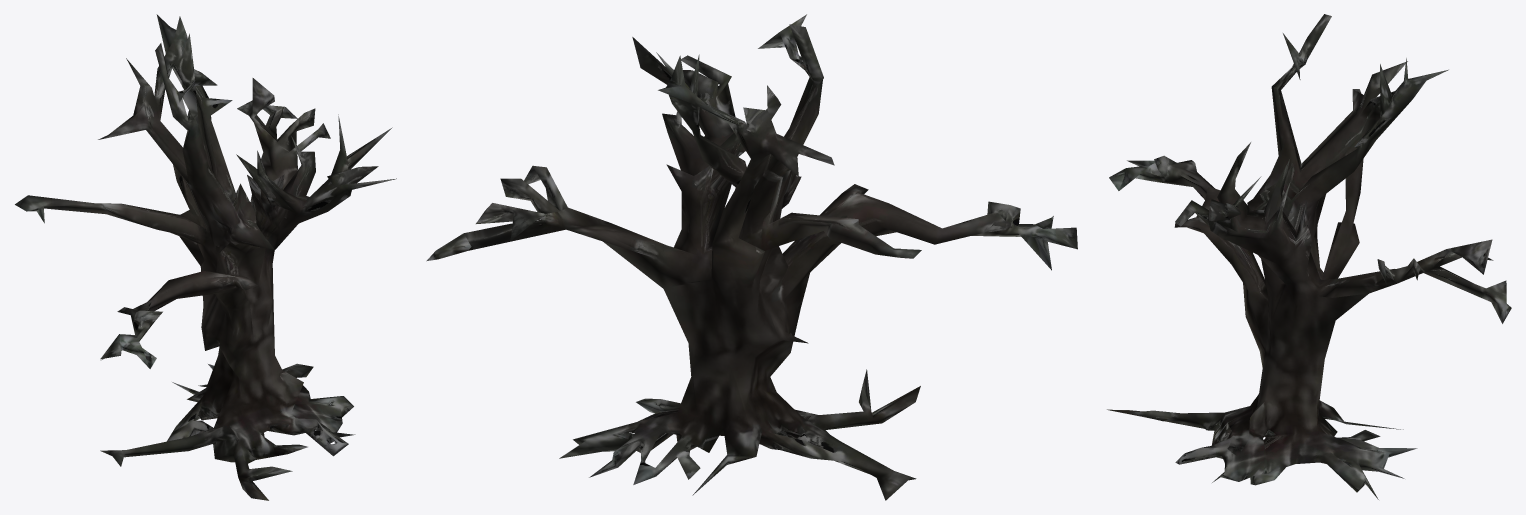
The model's file is 6bf117d03fbc_2b4a75dc517a_a_dry_dead_tree_wit.glb.
3 views of the same model, side by side, from view 1: azimuth 30°, elevation 25°; view 2: azimuth 150°, elevation 25°; view 3: azimuth 270°, elevation 25° (orthographic). The views are drawn at different scales.
Visible parts, largest first — view 1: mesh; view 2: mesh; view 3: mesh.
Part boxes in pixels (box(x1,y1,x2,y2)): mesh: box(15, 14, 396, 500); mesh: box(426, 14, 1077, 500); mesh: box(1107, 14, 1511, 499).
Size of the model in its own units: 0.9843 by 0.9941 by 0.9021.
1 material, 1 textured.
